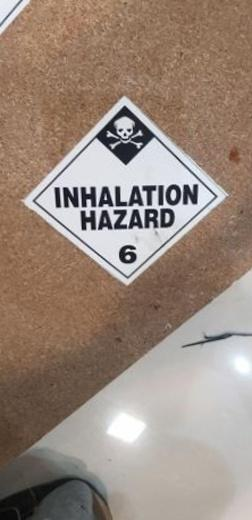poison: (19, 93, 231, 288)
